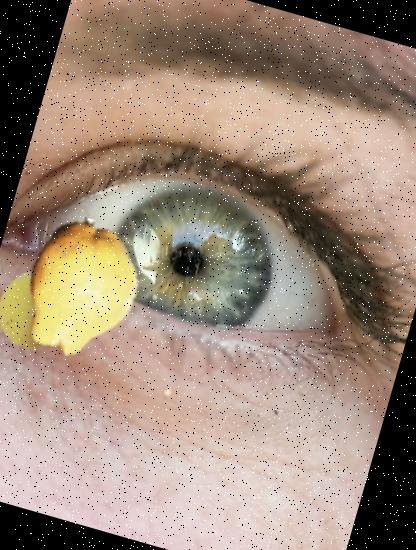Peach: (0, 256, 86, 359)
Quince: (0, 202, 168, 374)
